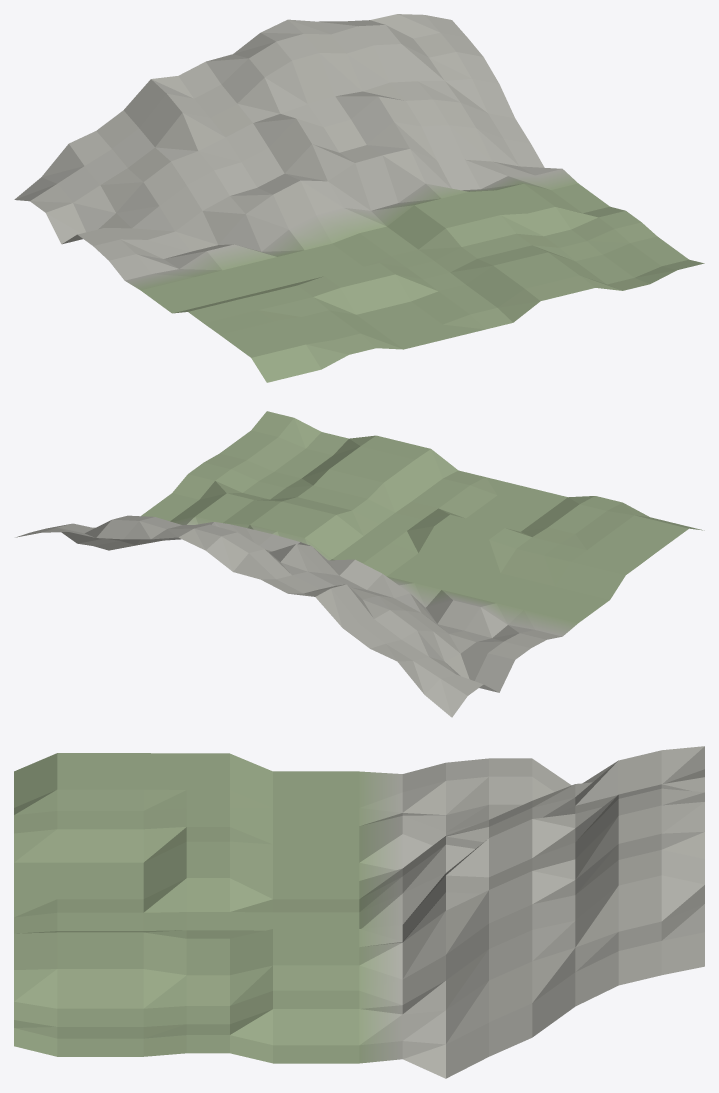
3 views of the same model, one above another, from view 1: azimuth 30°, elevation 25°; view 2: azimuth 150°, elevation 25°; view 3: azimuth 270°, elevation 25° (orthographic). The views are drawn at different scales.
Size of the model in its own units: 32 by 8.61 by 32.
